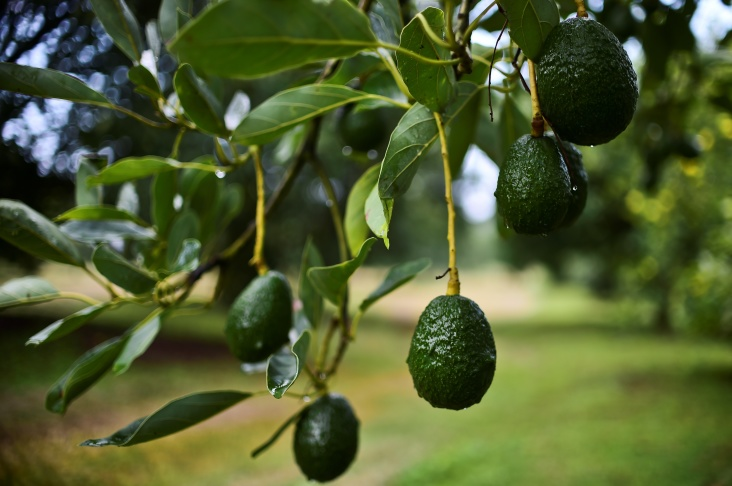unfit_avocado: (404, 274, 510, 418), (197, 255, 302, 361), (494, 127, 584, 239), (291, 384, 373, 464)
